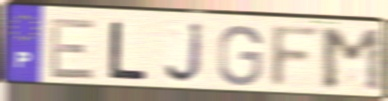E: (48, 17, 97, 82)
F: (267, 24, 326, 91)
G: (215, 22, 265, 88)
J: (162, 21, 205, 86)
L: (106, 20, 150, 83)
M: (318, 27, 387, 94)
